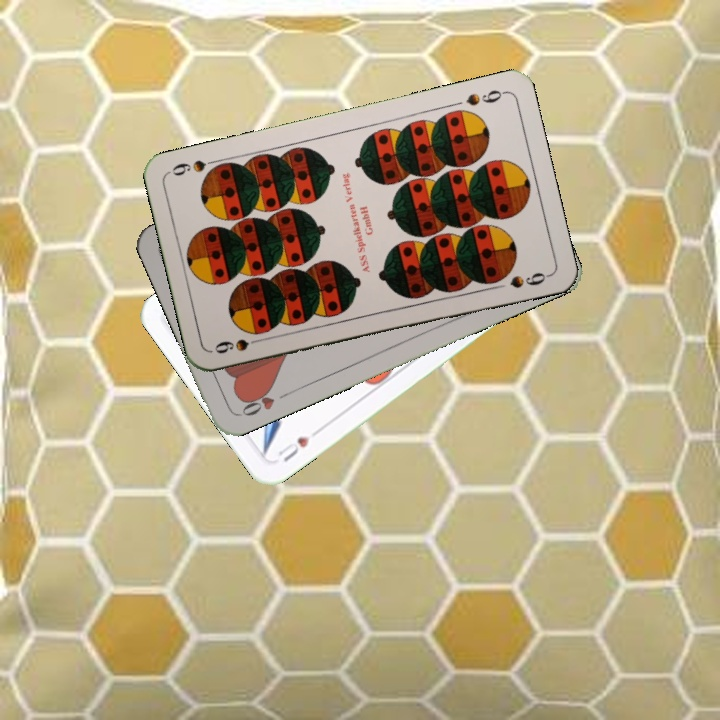HO: (236, 383, 292, 419)
HU: (273, 432, 313, 465)
S9: (210, 333, 269, 357), (461, 86, 508, 109)
